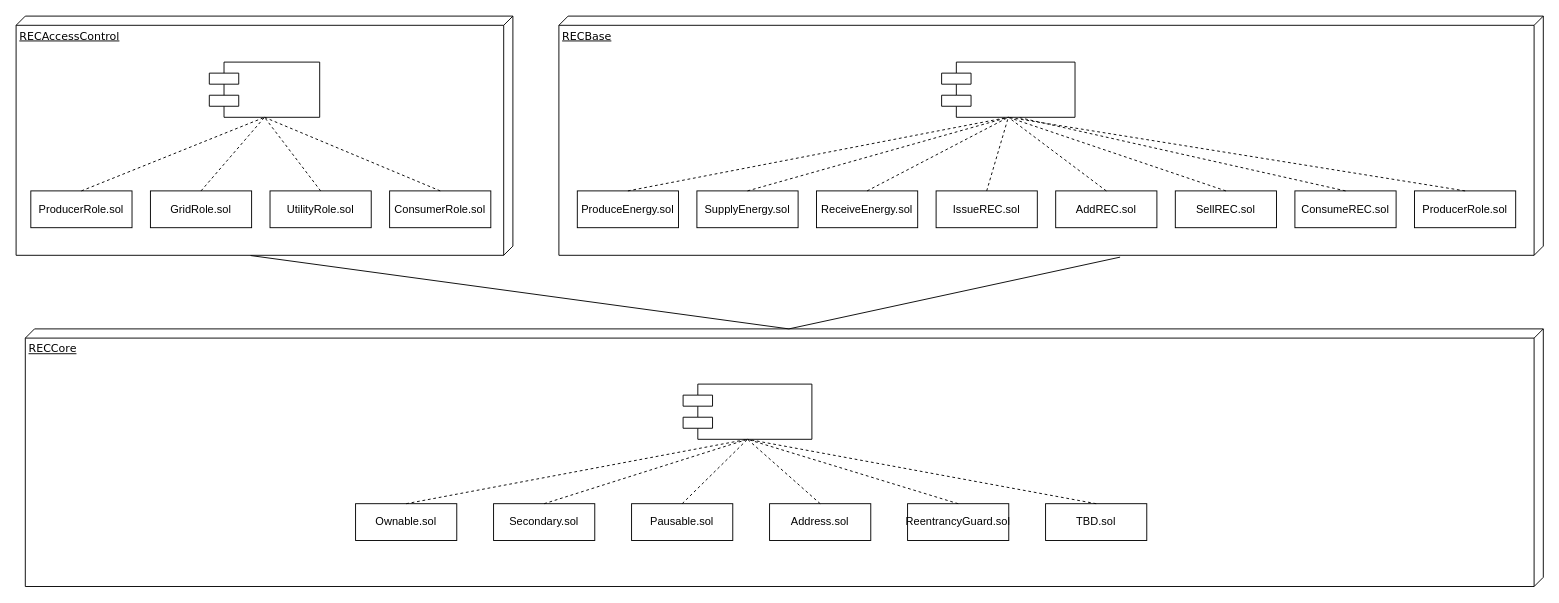
Image size: 1559x603. Some labels were removed from this diagram. The shapes that lost their labels are listed below. From the top down, each one's centre as x and y in pixels, then its label:
(x=264, y=89): Roles.sol
(x=1008, y=89): SupplyChain.sol
(x=747, y=411): ValueChain.sol
